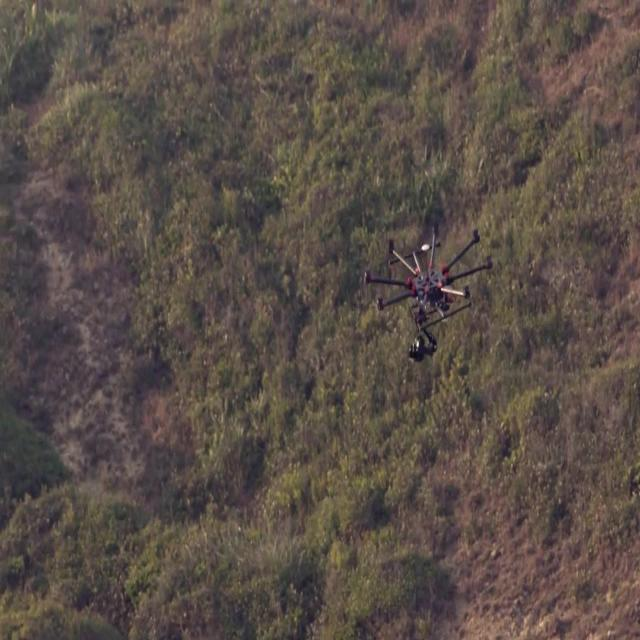UAV: (364, 225, 494, 363)
